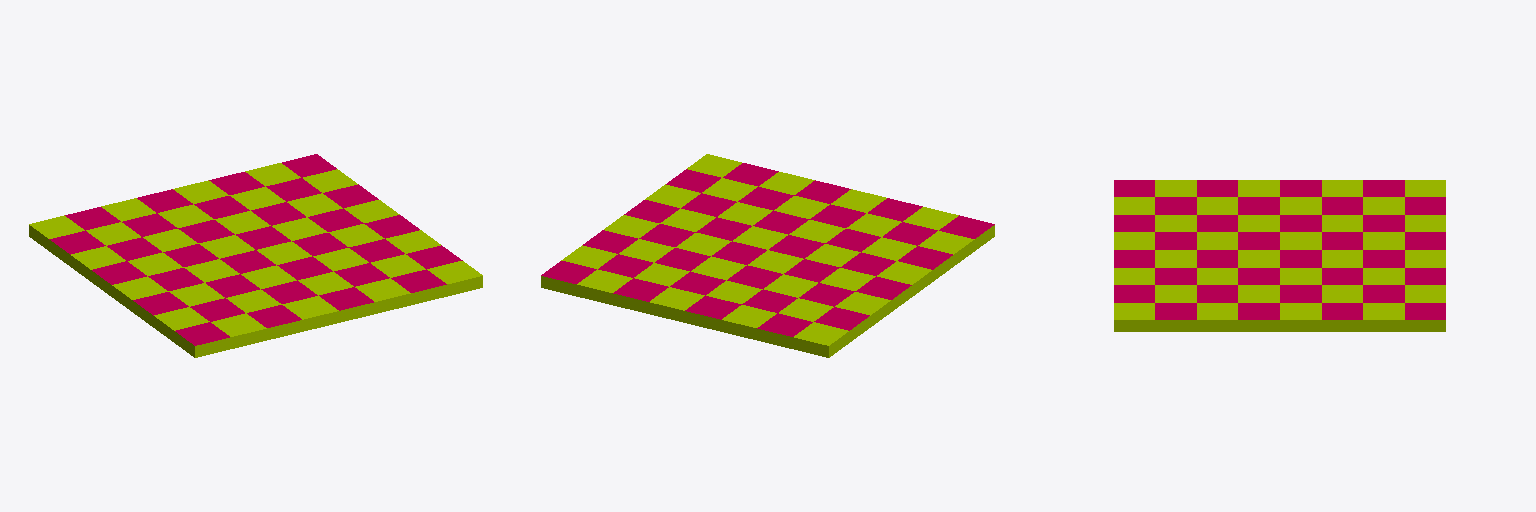
Rendered from DiscoFloor.obj.
3 views of the same model, side by side, from view 1: azimuth 30°, elevation 25°; view 2: azimuth 150°, elevation 25°; view 3: azimuth 270°, elevation 25° (orthographic).
Visible parts, largest first — view 1: Cube; view 2: Cube; view 3: Cube.
Part boxes in pixels (bbox=[...]): Cube: bbox=[29, 154, 482, 357]; Cube: bbox=[541, 154, 994, 357]; Cube: bbox=[1114, 180, 1445, 331].
Bounding box in the file's own units: 50 × 2 × 50.